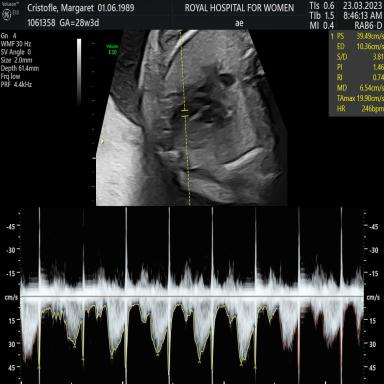Ultrasound-Waves: (21, 210, 362, 382)
